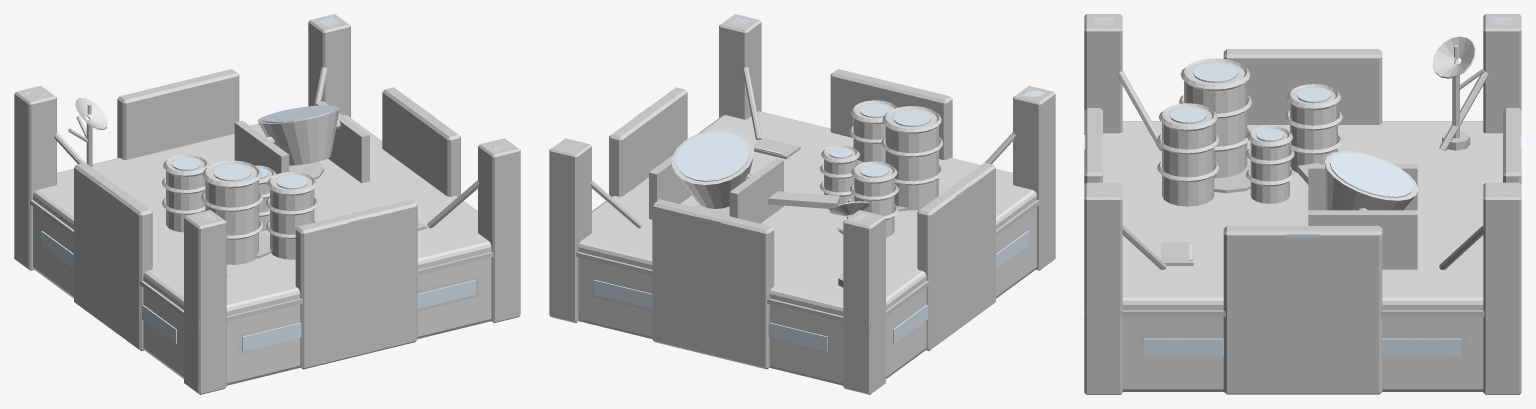
Rendered from SM_StationModule_MaterialsLab_01.fbx.
3 views of the same model, side by side, from view 1: azimuth 30°, elevation 25°; view 2: azimuth 150°, elevation 25°; view 3: azimuth 270°, elevation 25° (orthographic). The views are drawn at different scales.
Visible parts, largest first — view 1: SM_StationModule_MaterialsLab_01; view 2: SM_StationModule_MaterialsLab_01; view 3: SM_StationModule_MaterialsLab_01.
Boxes of the visible parts, bbox=[...] form: SM_StationModule_MaterialsLab_01: bbox=[14, 14, 520, 394]; SM_StationModule_MaterialsLab_01: bbox=[549, 14, 1055, 394]; SM_StationModule_MaterialsLab_01: bbox=[1084, 14, 1521, 394].
Size of what is drawn, in the model's own units: 800 by 800 by 400.
